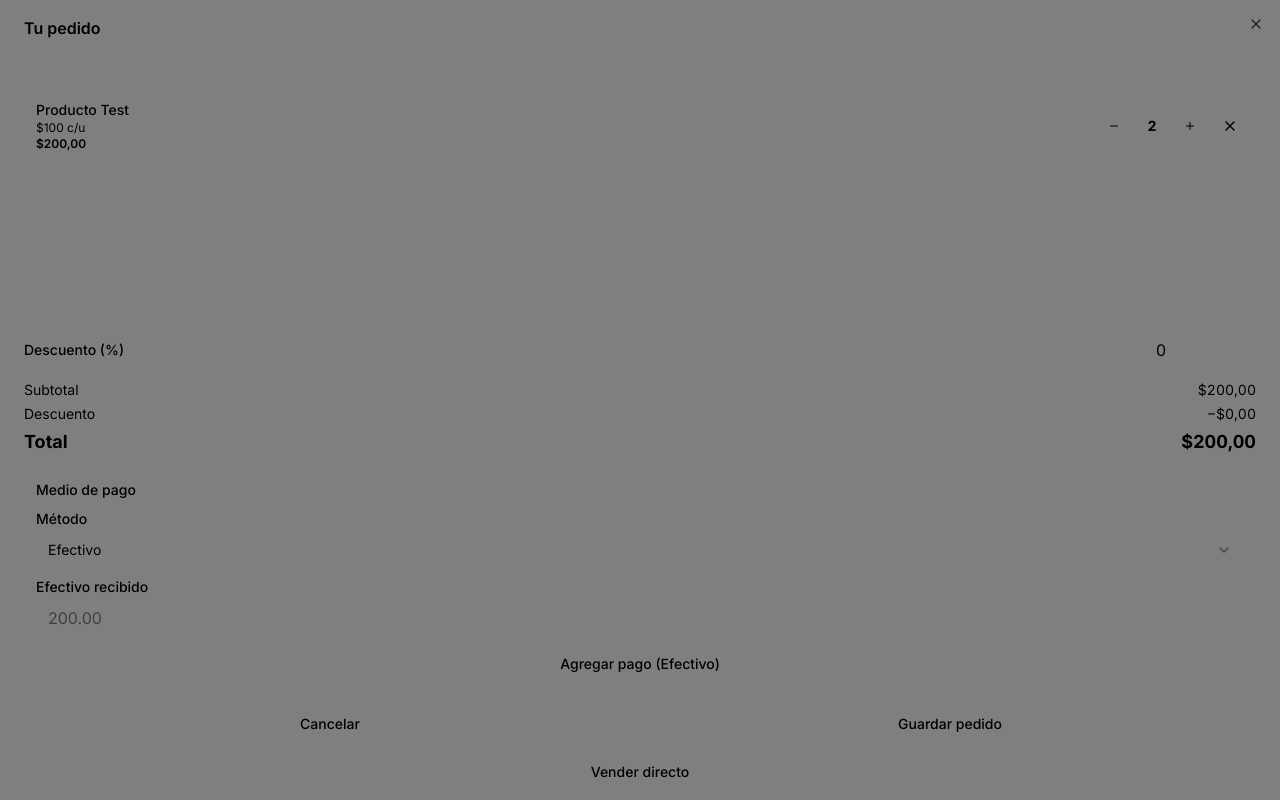
Scenario: VendorCartSheet — medios de pago (R6-R8, R10) › muestra el selector de método y el campo de efectivo recibido
Check: the text "Medio de pago" is shown, box [36,480,136,500]
# Tras declarar un pago se muestra el desglose con "Total pagado".
Type "200" into the number field labelled "Efectivo recibido".
click(640, 618); type("200")  # box [36,600,1244,636]
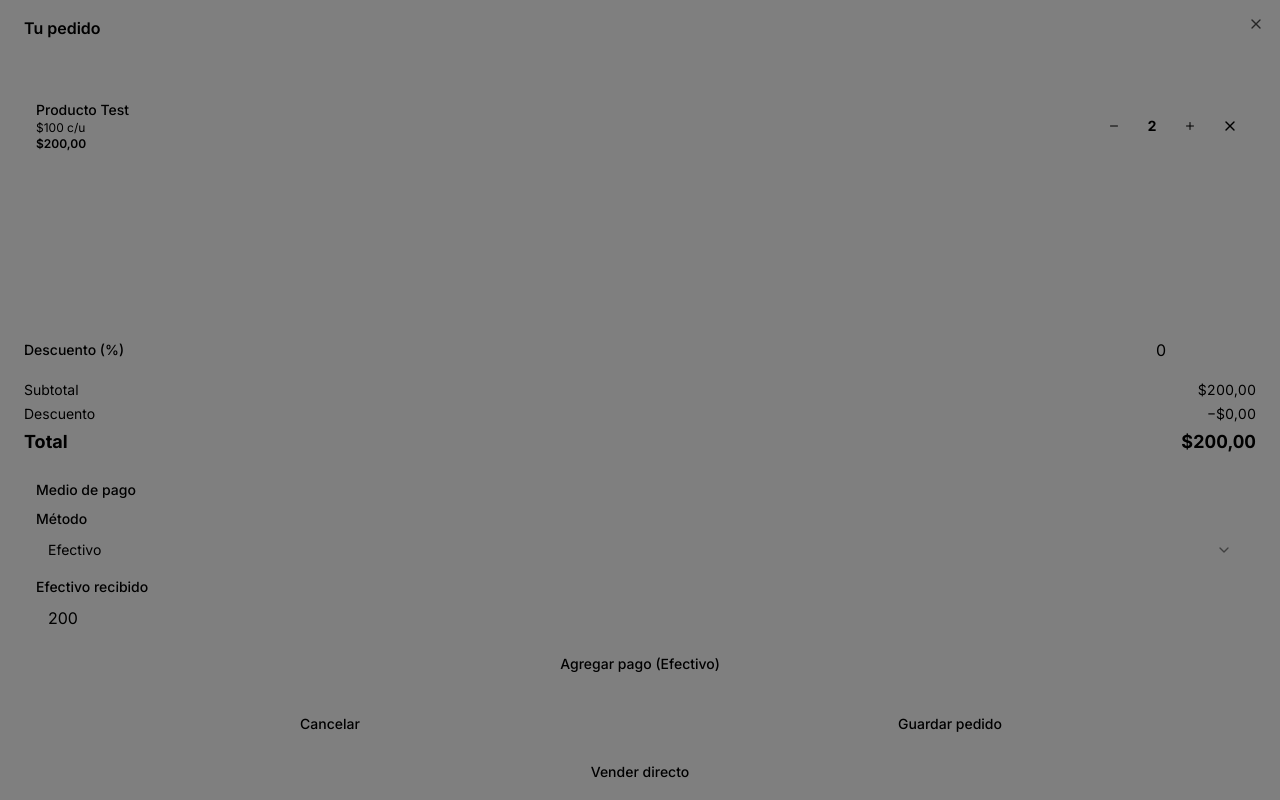
Click the button "Agregar pago (Efectivo)".
click(640, 664)  # box [36,648,1244,680]
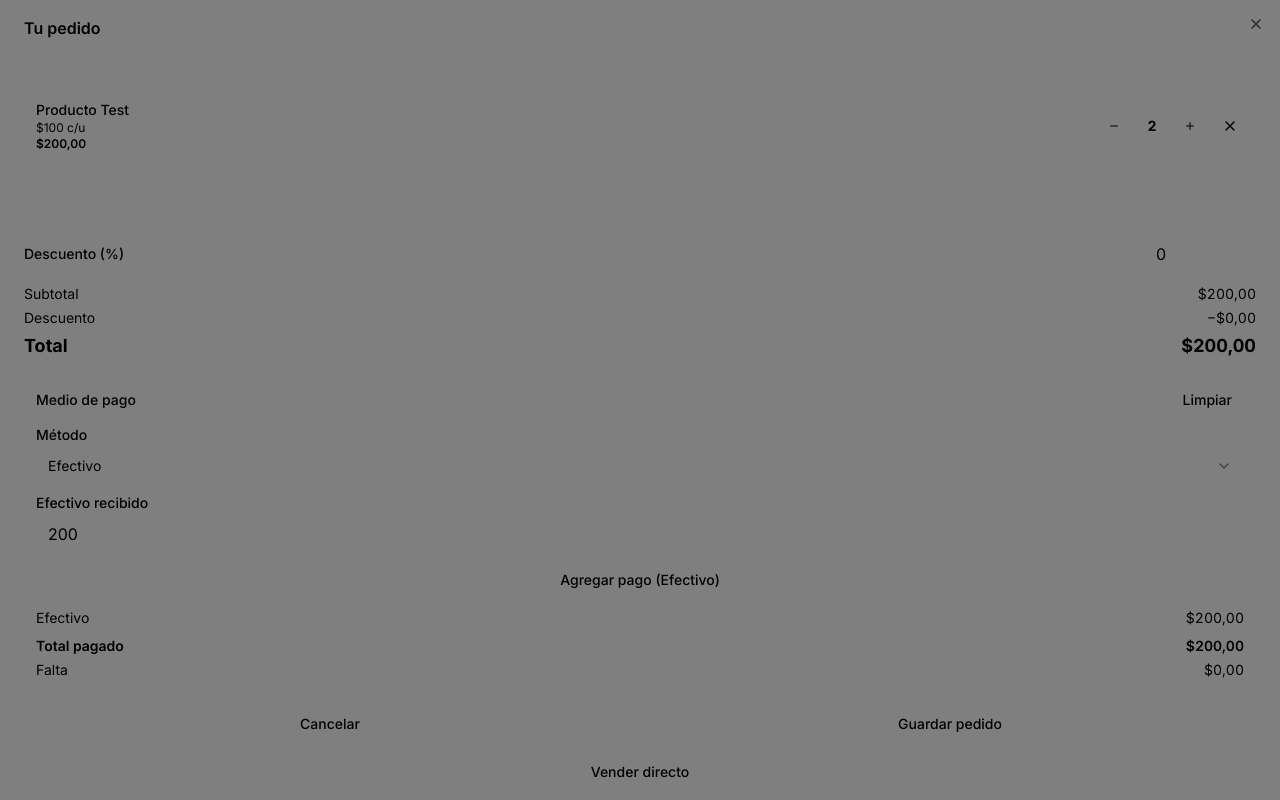
Check: the text "Total pagado" is shown, box [36,636,124,656]
